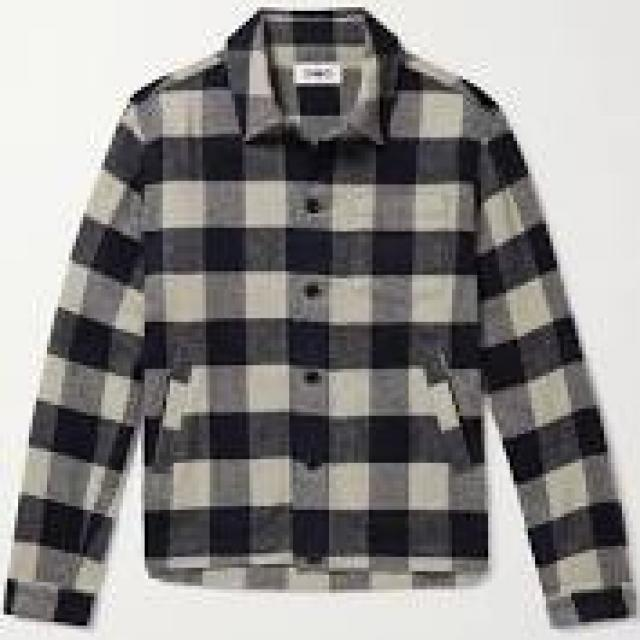plaid: (3, 7, 640, 630)
